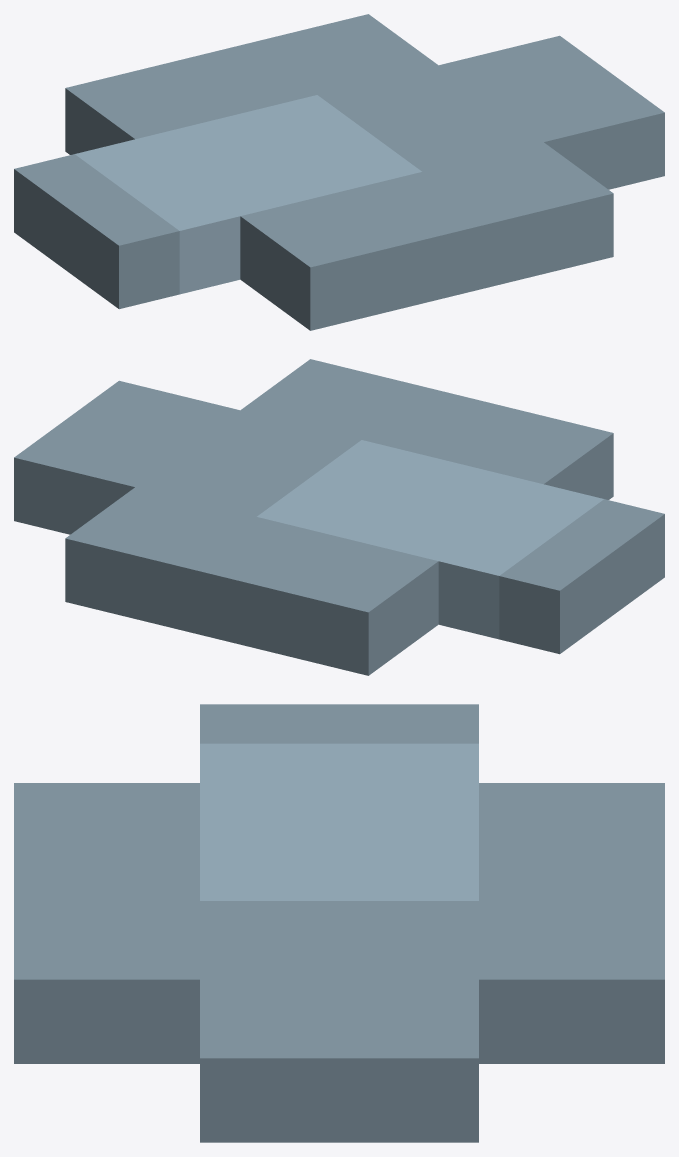
Rendered from charco_agua_02.glb.
The picture shows the model from 3 angles, top to bottom: view 1: azimuth 30°, elevation 25°; view 2: azimuth 150°, elevation 25°; view 3: azimuth 270°, elevation 25°; orthographic projection. The views are drawn at different scales.
Parts seen in each view (by area): view 1: charco_agua_02; view 2: charco_agua_02; view 3: charco_agua_02.
Part boxes in pixels (x1,y1,x2,y2): charco_agua_02: [14, 14, 664, 330]; charco_agua_02: [14, 359, 664, 675]; charco_agua_02: [14, 704, 664, 1142].
Bounding box in the file's own units: 0.9 × 0.1 × 0.7.
